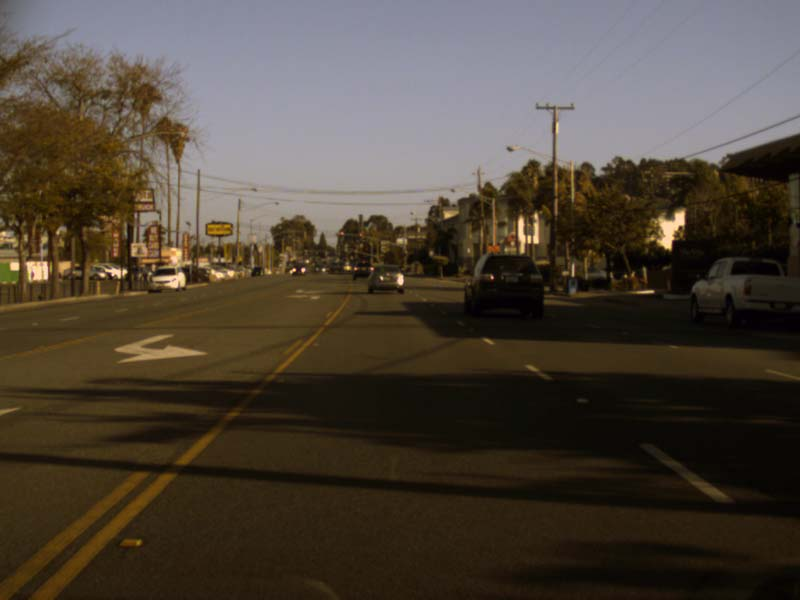Red: (339, 230, 344, 238), (358, 233, 362, 241)
